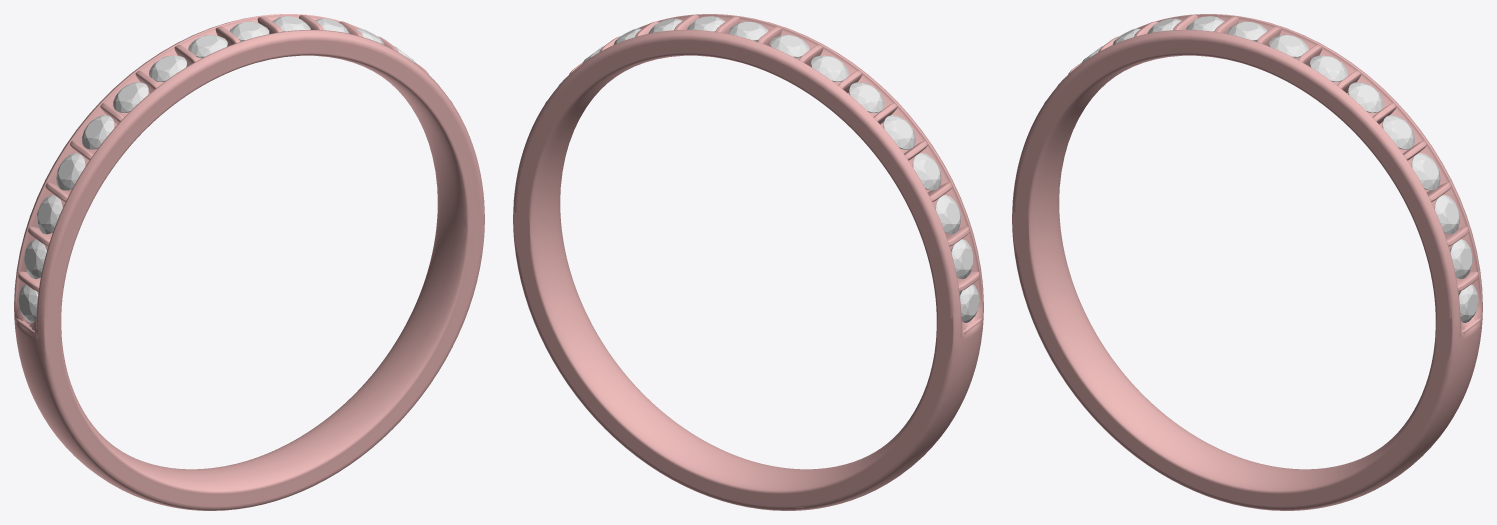
3 renders of one model, left to right at view 1: azimuth 30°, elevation 25°; view 2: azimuth 150°, elevation 25°; view 3: azimuth 330°, elevation 25°, orthographic.
Parts seen in each view (by area): view 1: metal.004, diamond.003; view 2: metal.004, diamond.003; view 3: metal.004, diamond.003.
Boxes of the visible parts, left/top/right/bottom form: metal.004: left=14, top=14, right=484, bottom=510; diamond.003: left=18, top=16, right=439, bottom=322; metal.004: left=513, top=14, right=983, bottom=510; diamond.003: left=558, top=16, right=979, bottom=322; metal.004: left=1012, top=14, right=1482, bottom=510; diamond.003: left=1057, top=16, right=1478, bottom=322.
Size of the model in its own units: 15.68 by 15.66 by 1.8.
